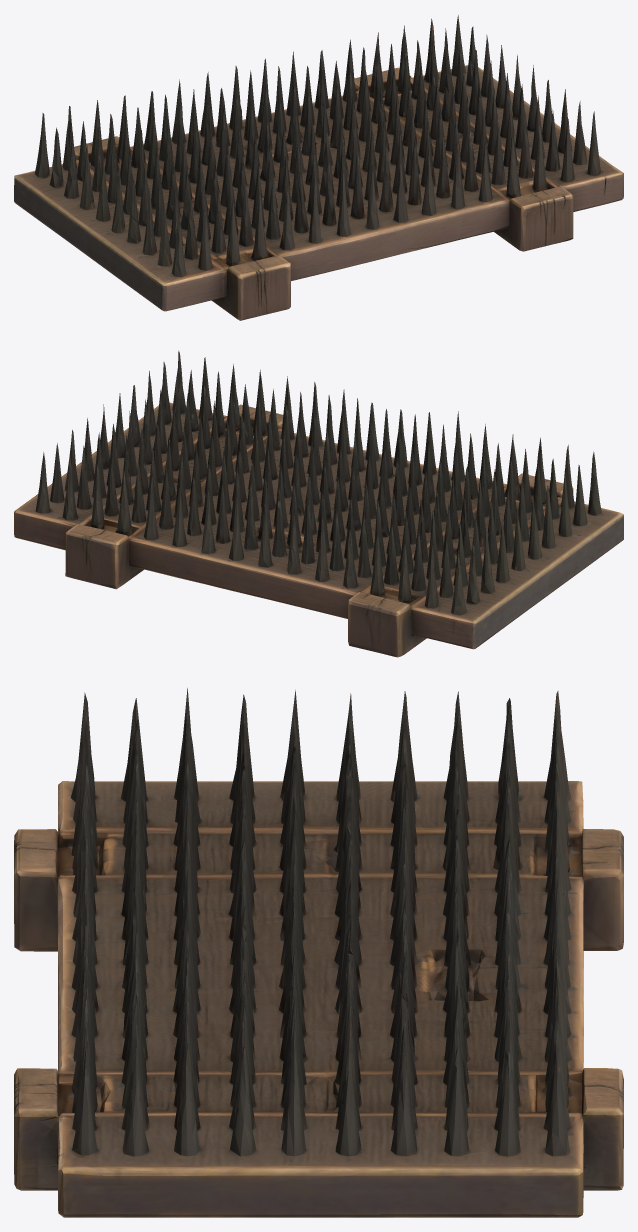
The model's file is Bẫy Cọc gai.fbx.
The picture shows the model from 3 angles, top to bottom: view 1: azimuth 30°, elevation 25°; view 2: azimuth 150°, elevation 25°; view 3: azimuth 270°, elevation 25°; orthographic projection. The views are drawn at different scales.
Parts seen in each view (by area): view 1: temp; view 2: temp; view 3: temp.
Boxes of the visible parts, box(x1,y1,x2,y2) form: temp: box(14, 15, 623, 320); temp: box(14, 350, 623, 657); temp: box(14, 688, 623, 1217).
Bounding box in the file's own units: 200 × 47.93 × 132.
1 material, 1 textured.
